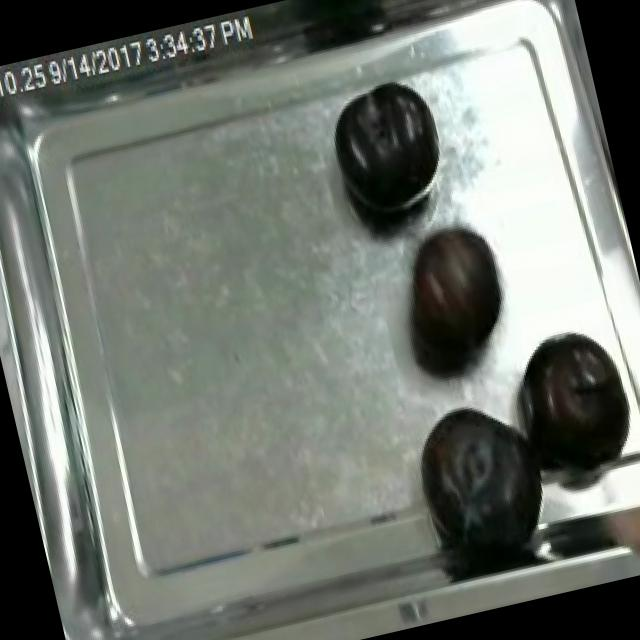Fruit: (378, 210, 526, 390), (315, 66, 458, 232), (509, 316, 640, 490)
